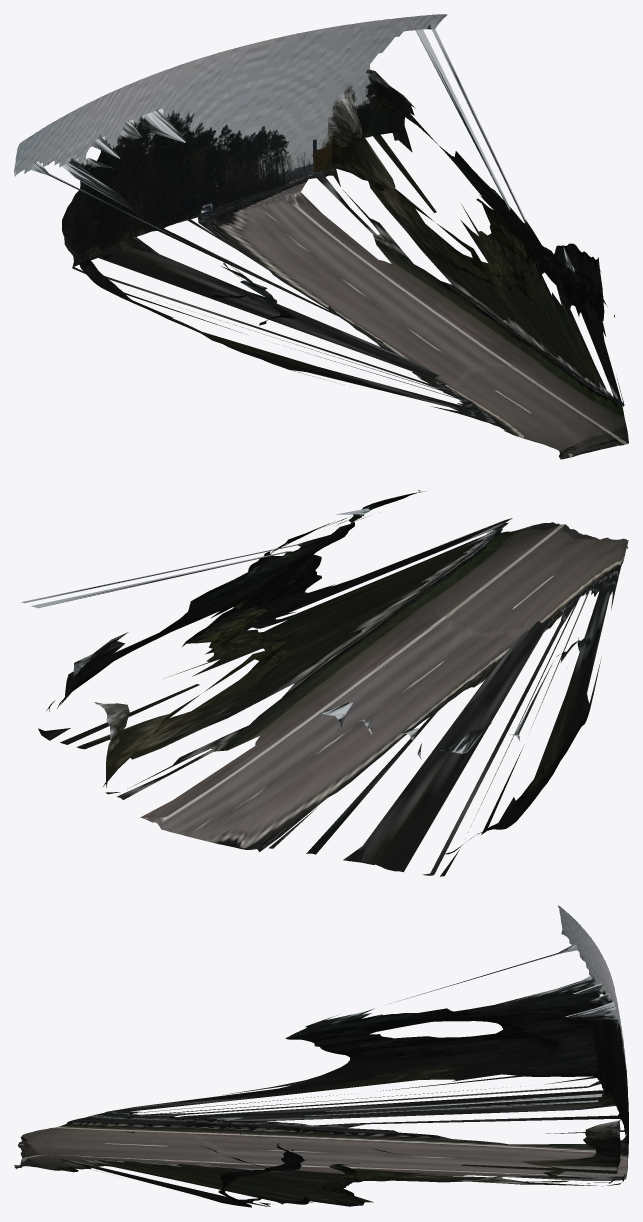
3 renders of one model, top to bottom at view 1: azimuth 30°, elevation 25°; view 2: azimuth 150°, elevation 25°; view 3: azimuth 270°, elevation 25°, orthographic. The views are drawn at different scales.
Parts seen in each view (by area): view 1: defaultobject; view 2: defaultobject; view 3: defaultobject.
Boxes of the visible parts, x1,y1,x2,y2 form: defaultobject: [14, 14, 628, 459]; defaultobject: [21, 490, 628, 876]; defaultobject: [14, 905, 628, 1207].
Bounding box in the file's own units: 33.48 × 12.42 × 44.66.
Materials: 1 (1 with a texture image).
